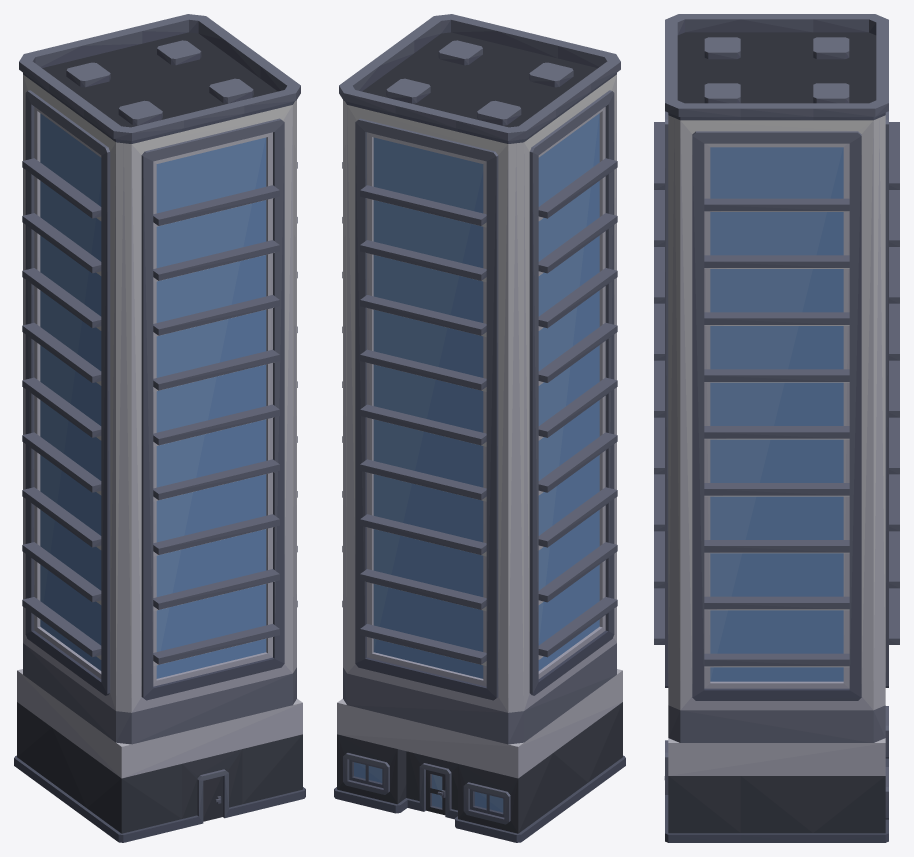
Rendered from skyscraper_b.glb.
3 renders of one model, left to right at view 1: azimuth 30°, elevation 25°; view 2: azimuth 150°, elevation 25°; view 3: azimuth 270°, elevation 25°, orthographic. The views are drawn at different scales.
Visible parts, largest first — view 1: skyscraper_b; view 2: skyscraper_b; view 3: skyscraper_b.
Boxes of the visible parts, x1,y1,x2,y2 form: skyscraper_b: [14, 14, 305, 842]; skyscraper_b: [334, 14, 625, 842]; skyscraper_b: [654, 14, 899, 842].
Size of the model in its own units: 1.36 by 4.48 by 1.36.
